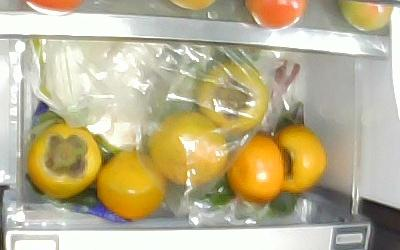persimmon: (28, 122, 102, 199), (96, 151, 168, 220), (272, 125, 327, 195), (228, 133, 283, 201)
persimmon_vinyl: (150, 113, 229, 186), (196, 64, 267, 137)
